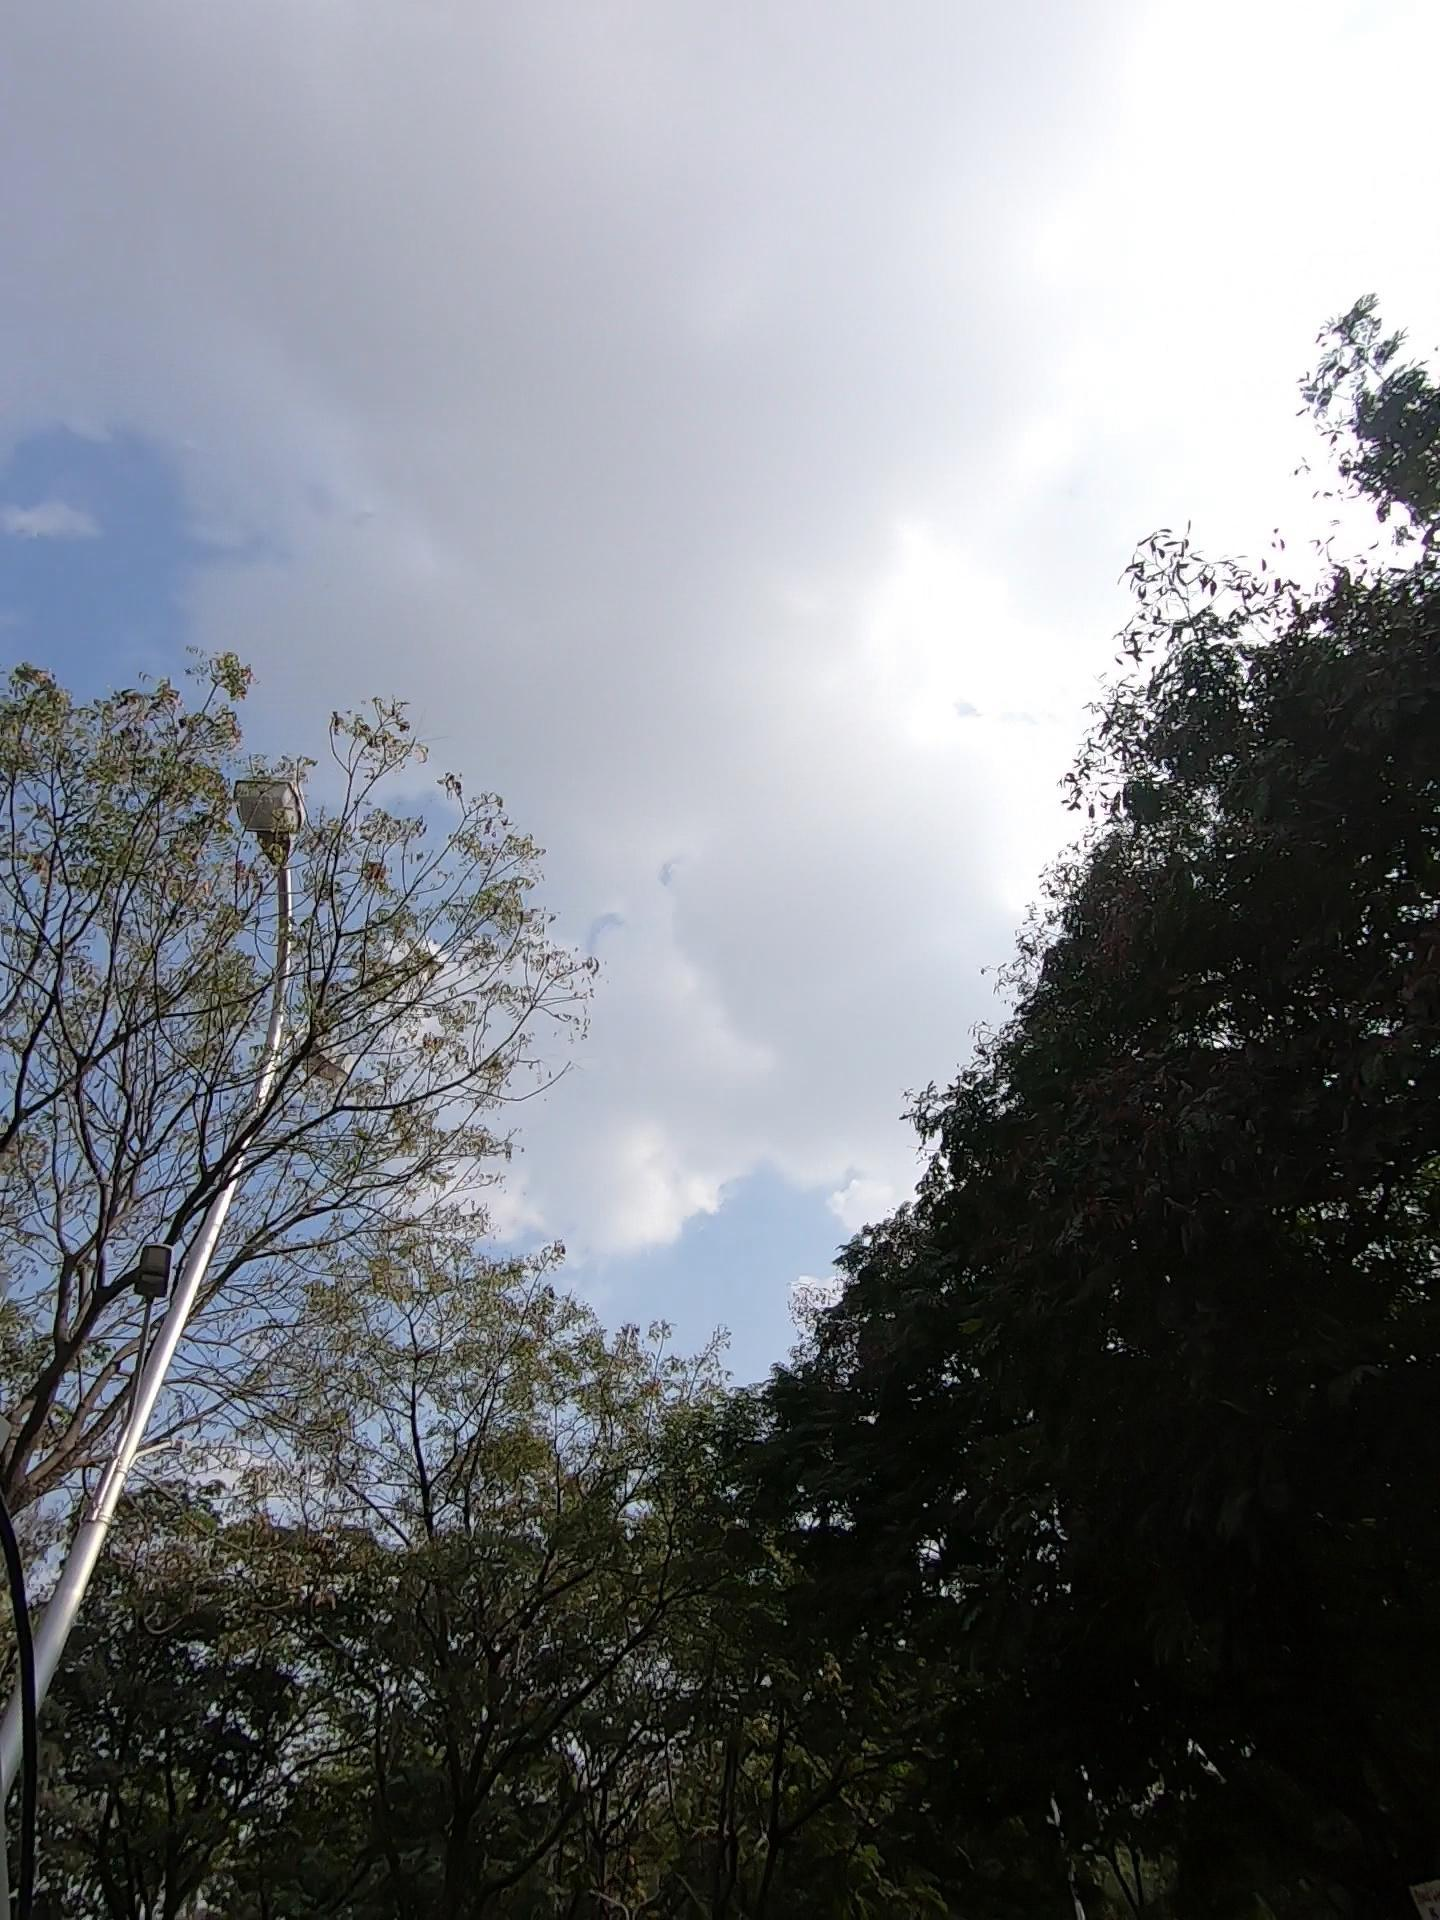off: (195, 676, 479, 1147)
